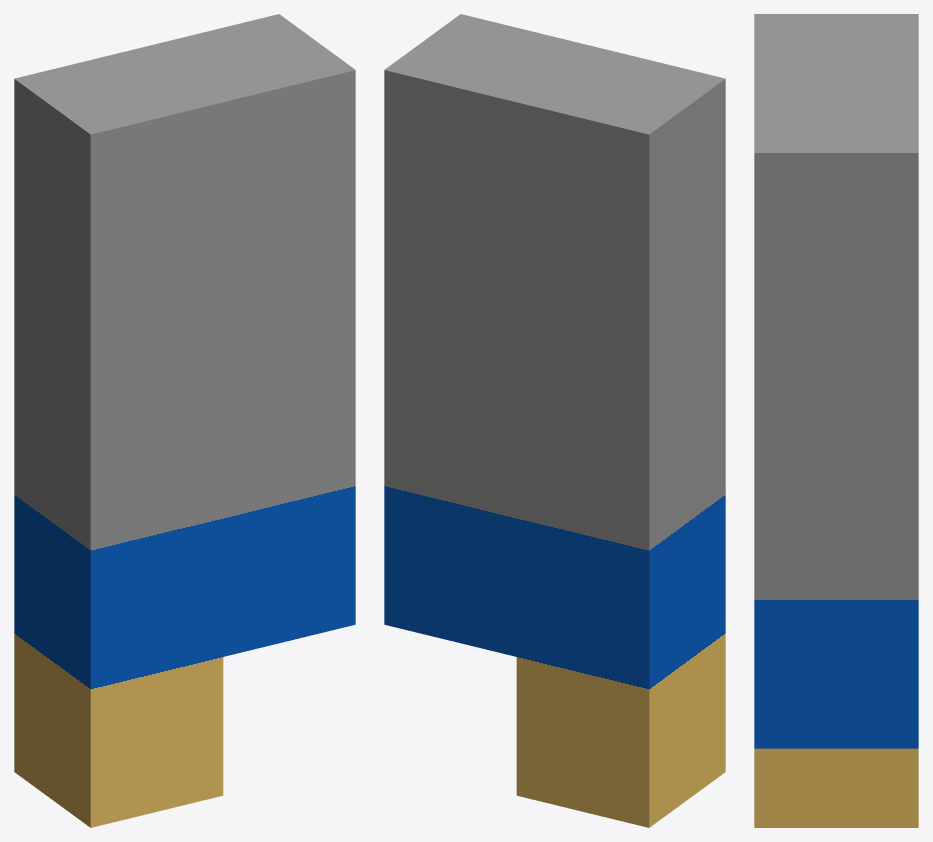
File: PCArm.dae
3 renders of one model, left to right at view 1: azimuth 30°, elevation 25°; view 2: azimuth 150°, elevation 25°; view 3: azimuth 270°, elevation 25°, orthographic. The views are drawn at different scales.
Visible parts, largest first — view 1: PCArm; view 2: PCArm; view 3: PCArm.
Part boxes in pixels (x1,y1,x2,y2): PCArm: (14, 14, 355, 827); PCArm: (384, 14, 725, 827); PCArm: (754, 14, 918, 827).
Bounding box in the file's own units: 0.2 × 0.1 × 0.5.
Materials: 1 (1 with a texture image).
